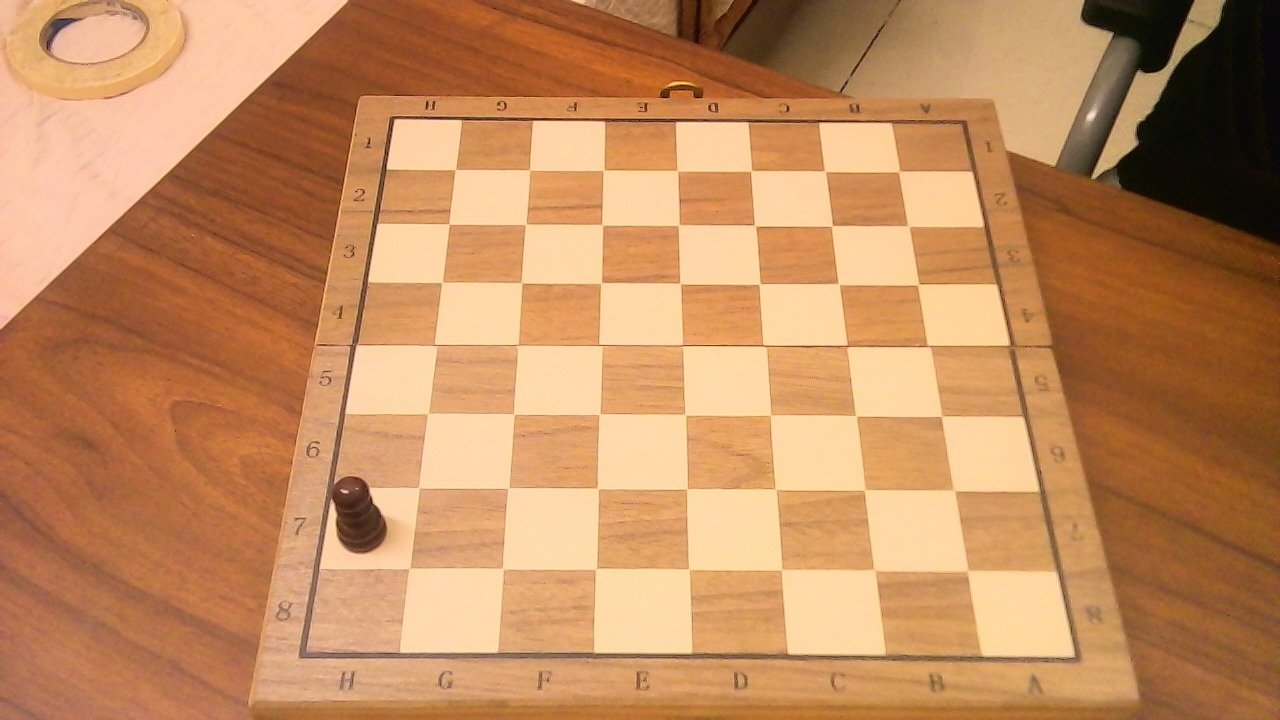p: (325, 463, 396, 558)
